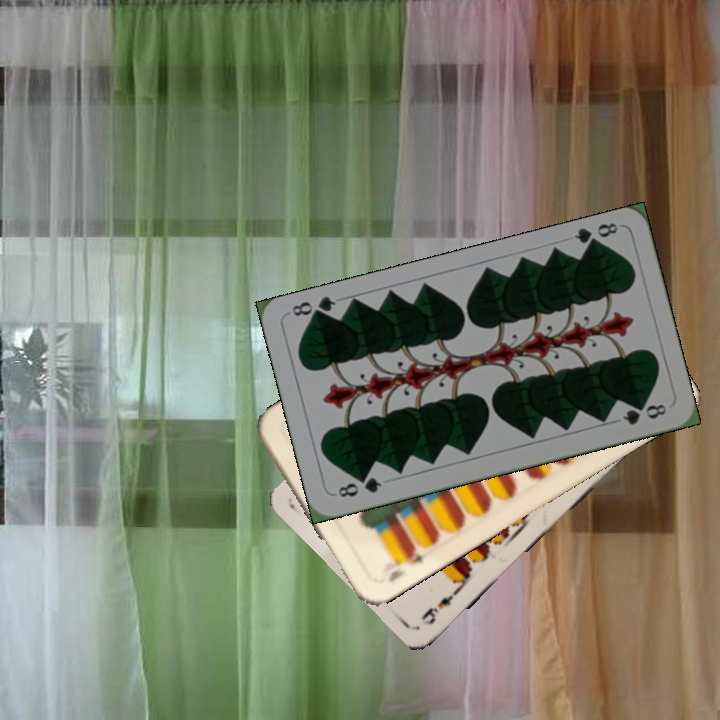E10: (383, 544, 429, 585)
E9: (417, 582, 465, 628)
G8: (570, 218, 620, 252), (333, 473, 385, 500)
